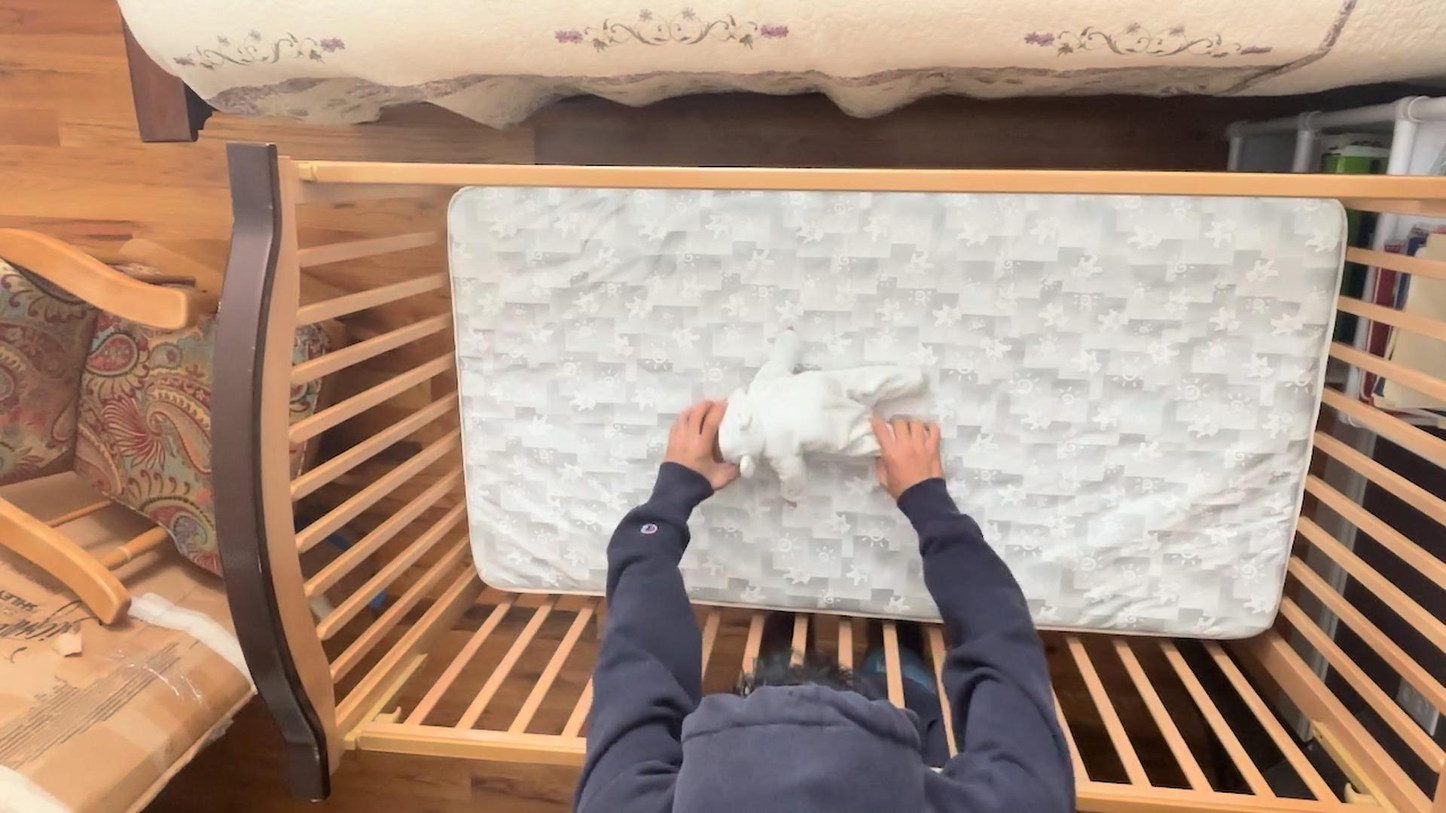baby: (704, 324, 940, 494)
